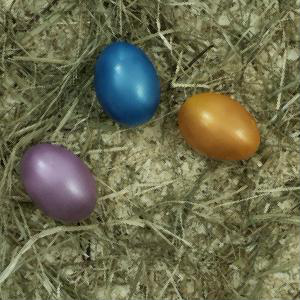egg: (20, 143, 99, 221), (178, 92, 261, 162), (94, 43, 161, 126)
